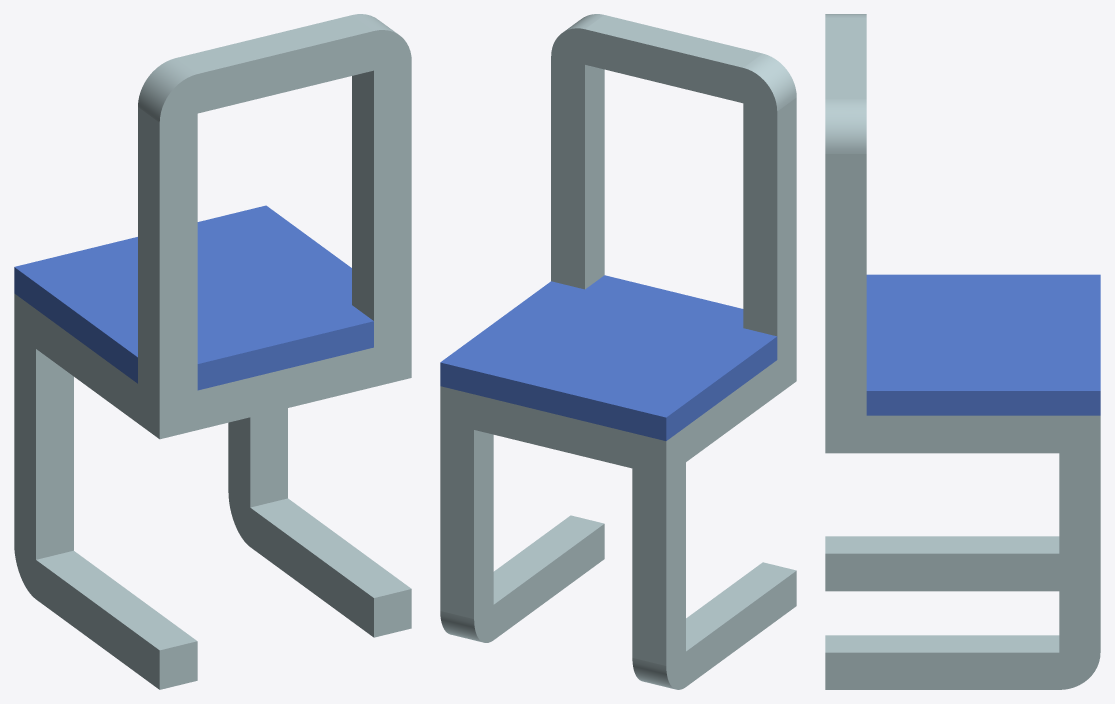
The model's file is chairModernFrameCushion.fbx.
3 views of the same model, side by side, from view 1: azimuth 30°, elevation 25°; view 2: azimuth 150°, elevation 25°; view 3: azimuth 270°, elevation 25° (orthographic). The views are drawn at different scales.
Parts seen in each view (by area): view 1: chairModernFrameCushion; view 2: chairModernFrameCushion; view 3: chairModernFrameCushion.
Part boxes in pixels (left/top/right/bottom): chairModernFrameCushion: left=14, top=14, right=411, bottom=689; chairModernFrameCushion: left=440, top=14, right=796, bottom=689; chairModernFrameCushion: left=825, top=14, right=1100, bottom=689.
Bounding box in the file's own units: 2 × 4.6 × 2.
